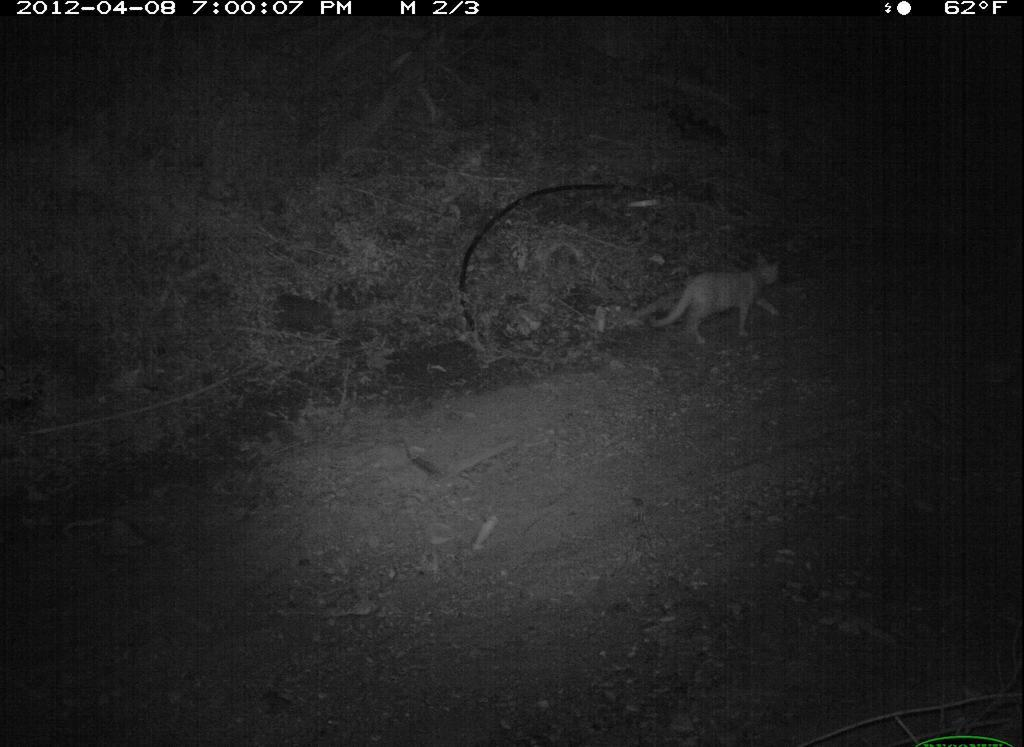cat: (644, 244, 789, 351)
